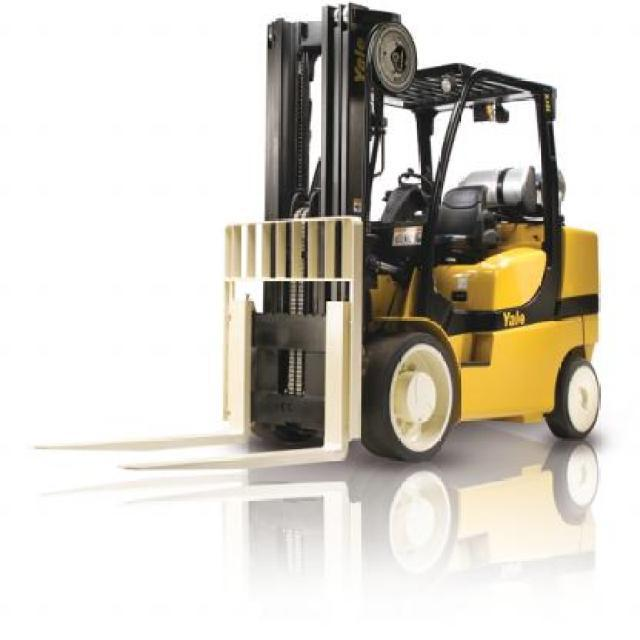forklift: (196, 60, 602, 460)
